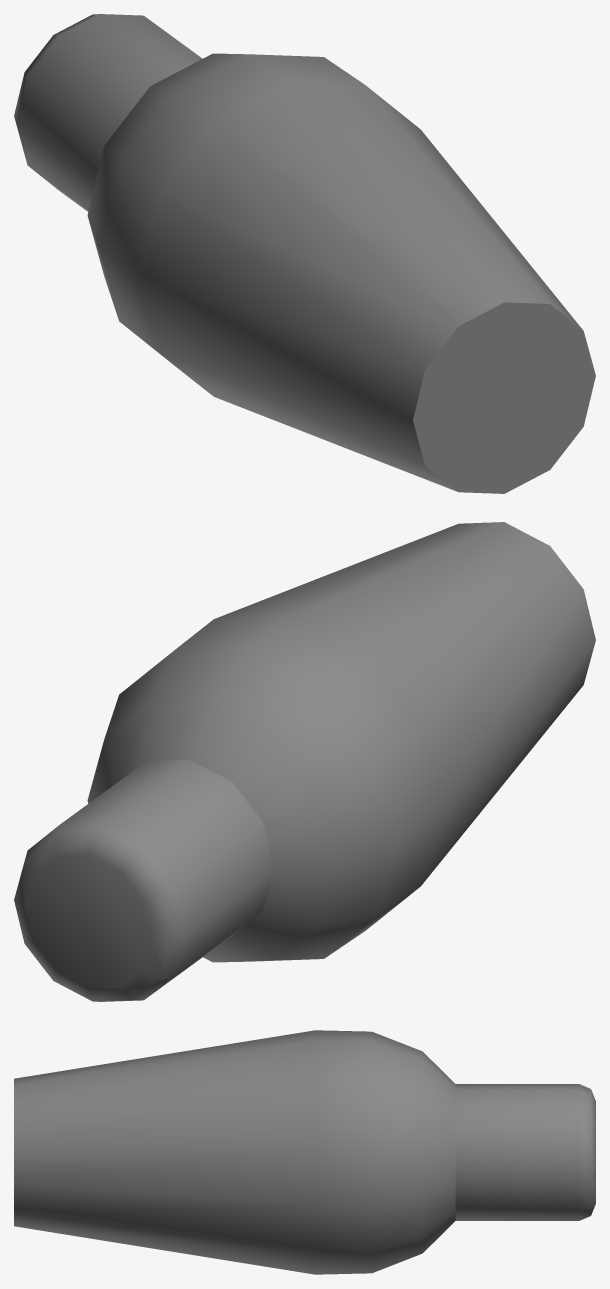
File: Obs_Shaker.fbx
3 views of the same model, one above another, from view 1: azimuth 30°, elevation 25°; view 2: azimuth 150°, elevation 25°; view 3: azimuth 270°, elevation 25° (orthographic). The views are drawn at different scales.
Visible parts, largest first — view 1: Obs_Shaker; view 2: Obs_Shaker; view 3: Obs_Shaker.
Part boxes in pixels (x1,y1,x2,y2): Obs_Shaker: (14, 14, 595, 493); Obs_Shaker: (14, 522, 595, 1001); Obs_Shaker: (14, 1030, 595, 1274).
Bounding box in the file's own units: 0.1244 × 0.1244 × 0.2952.
